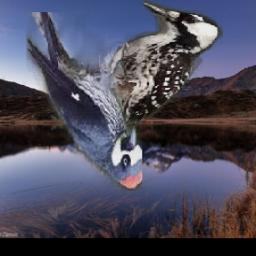Woodpecker: (26, 13, 142, 192), (109, 0, 224, 129)
